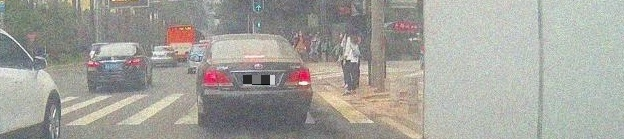L_light: (203, 70, 234, 87), (88, 60, 99, 67)
R_light: (284, 69, 311, 86), (127, 58, 141, 65)
T_light: (244, 53, 266, 59), (112, 45, 121, 48)
day-brake: (196, 34, 313, 126)
day-no: (87, 42, 145, 92)
plate_1: (243, 75, 275, 85)
